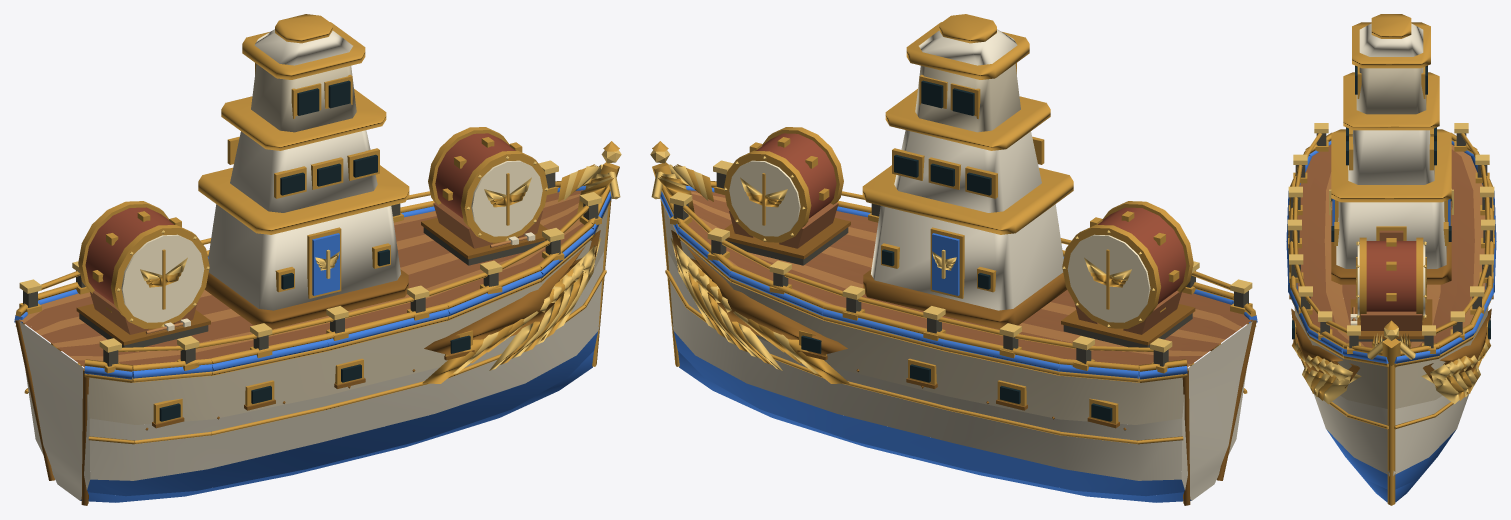
The picture shows the model from 3 angles, left to right: view 1: azimuth 30°, elevation 25°; view 2: azimuth 150°, elevation 25°; view 3: azimuth 270°, elevation 25°; orthographic projection. The views are drawn at different scales.
Parts seen in each view (by area): view 1: 大天使 · Archangel; view 2: 大天使 · Archangel; view 3: 大天使 · Archangel.
Boxes of the visible parts, bbox=[...] form: 大天使 · Archangel: bbox=[14, 14, 621, 505]; 大天使 · Archangel: bbox=[650, 14, 1257, 505]; 大天使 · Archangel: bbox=[1286, 14, 1496, 505].
Size of the model in its own units: 2.09 by 1.52 by 0.766.
